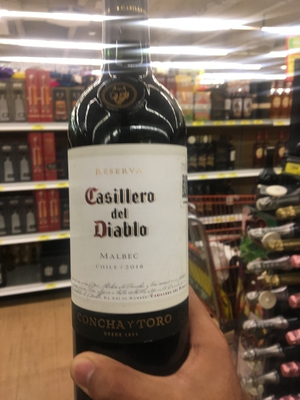casillero del diablo malbec: (62, 9, 197, 400)
